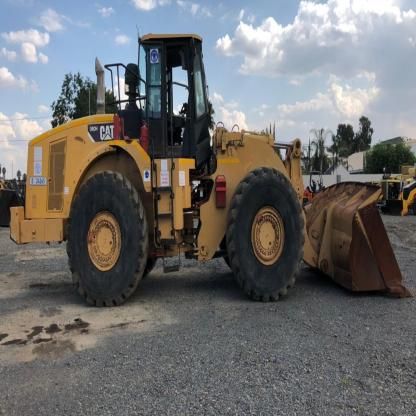bull_dozer/loader/grader: (7, 17, 413, 315)
